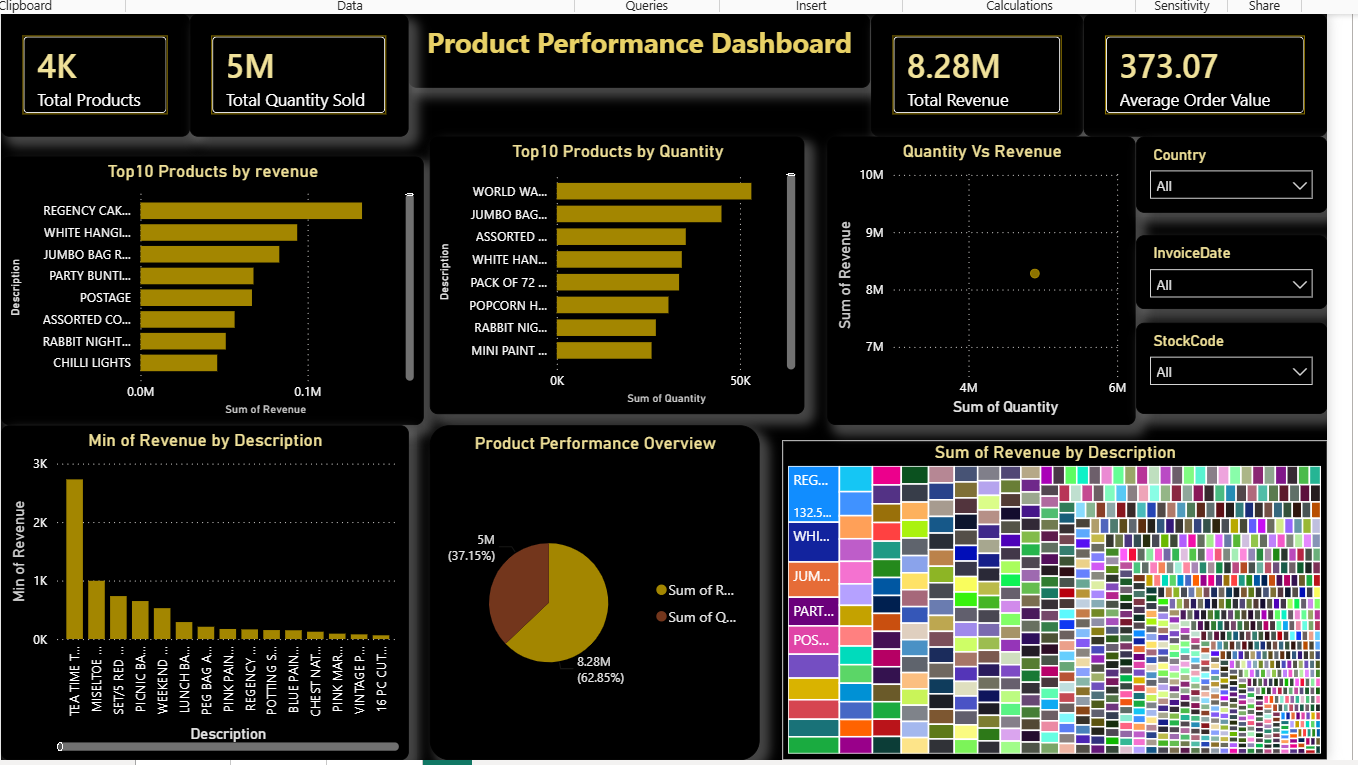

What the dashboard file says about the page in this screenshot:
{"tool":"powerbi","page":{"name":"Page 3","canvas":[1280,720],"ordinal":2},"visuals":[{"type":"textbox","box":[393.8,0,446,71.4],"z":0},{"type":"cardVisual","fields":{"Data":["ecommerce_ba online_retail.Total Products"]},"box":[0,0,182.2,118.2],"z":1000},{"type":"cardVisual","fields":{"Data":["ecommerce_ba online_retail.Total Quantity Sold"]},"box":[182.2,0,211.1,118.2],"z":2000},{"type":"cardVisual","fields":{"Data":["ecommerce_ba online_retail.Total Revenue"]},"box":[839.7,0,205.1,118.2],"z":3000},{"type":"cardVisual","fields":{"Data":["ecommerce_ba online_retail.Average Order Value"]},"box":[1044.8,0,235.3,118.2],"z":4000},{"type":"clusteredBarChart","title":"Top10 Products by revenue","fields":{"Category":["ecommerce_ba online_retail.Description"],"Y":["Sum(ecommerce_ba online_retail.Revenue)"]},"box":[0,137.5,407.8,259.4],"z":5000},{"type":"barChart","title":"Top10 Products by Quantity","fields":{"Category":["ecommerce_ba online_retail.Description"],"Y":["Sum(ecommerce_ba online_retail.Quantity)"]},"box":[413.8,118.2,361.9,267.8],"z":6000},{"type":"clusteredColumnChart","fields":{"Category":["ecommerce_ba online_retail.Description"],"Y":["Min(ecommerce_ba online_retail.Revenue)"]},"box":[0,396.9,393.3,323.3],"z":7000},{"type":"treemap","fields":{"Group":["ecommerce_ba online_retail.Description"],"Values":["Sum(ecommerce_ba online_retail.Revenue)"]},"box":[754,411.4,526,308.8],"z":8000},{"type":"scatterChart","title":"Quantity Vs Revenue","fields":{"X":["Sum(ecommerce_ba online_retail.Quantity)"],"Y":["Sum(ecommerce_ba online_retail.Revenue)"]},"box":[797.5,118.2,298,278.7],"z":9000},{"type":"pieChart","title":"Product Performance Overview","fields":{"Y":["Sum(ecommerce_ba online_retail.Revenue)","Sum(ecommerce_ba online_retail.Quantity)"]},"box":[413.8,396.9,318.5,323.3],"z":10000},{"type":"slicer","fields":{"Values":["ecommerce_ba online_retail.Country"]},"box":[1095.4,118.2,184.6,73.6],"z":11000},{"type":"slicer","fields":{"Values":["ecommerce_ba online_retail.InvoiceDate"]},"box":[1095.4,213.5,184.6,71.2],"z":12000},{"type":"slicer","fields":{"Values":["ecommerce_ba online_retail.StockCode"]},"box":[1095.4,298,184.6,88.1],"z":13000}]}

Visuals, with their boxes on the page's 1280x720 design canvas (x1, y1, x2, y2). These are canvas units, not pixel positions in the 1358x765 screenshot, which may show the page scaled, cropped or inside an application window:
textbox: region(394, 0, 840, 71)
cardVisual - ecommerce_ba online_retail.Total Products: region(0, 0, 182, 118)
cardVisual - ecommerce_ba online_retail.Total Quantity Sold: region(182, 0, 393, 118)
cardVisual - ecommerce_ba online_retail.Total Revenue: region(840, 0, 1045, 118)
cardVisual - ecommerce_ba online_retail.Average Order Value: region(1045, 0, 1280, 118)
"Top10 Products by revenue" clusteredBarChart: region(0, 138, 408, 397)
"Top10 Products by Quantity" barChart: region(414, 118, 776, 386)
clusteredColumnChart - ecommerce_ba online_retail.Description x Min(ecommerce_ba online_retail.Revenue): region(0, 397, 393, 720)
treemap - ecommerce_ba online_retail.Description x Sum(ecommerce_ba online_retail.Revenue): region(754, 411, 1280, 720)
"Quantity Vs Revenue" scatterChart: region(798, 118, 1096, 397)
"Product Performance Overview" pieChart: region(414, 397, 732, 720)
slicer - ecommerce_ba online_retail.Country: region(1095, 118, 1280, 192)
slicer - ecommerce_ba online_retail.InvoiceDate: region(1095, 214, 1280, 285)
slicer - ecommerce_ba online_retail.StockCode: region(1095, 298, 1280, 386)
